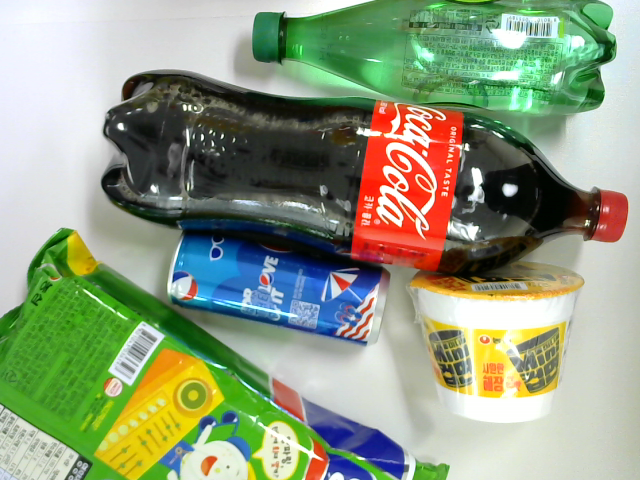Coca_Cola_1.5L: (102, 69, 632, 277)
Hejangmini: (404, 262, 587, 425)
Oninon_Ring: (1, 224, 452, 480)
Pepsi_Cola_Can_250ml: (166, 226, 393, 344)
Treviraim_500ml: (251, 1, 620, 116)
